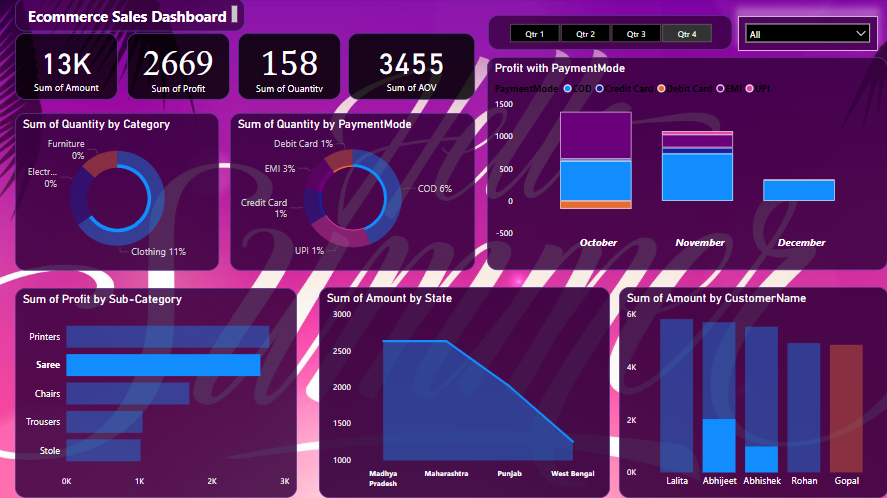

Layout of this report page (visuals, bound fields, positions):
{"tool":"powerbi","page":{"name":"Page 1","canvas":[1280,720],"ordinal":0},"visuals":[{"type":"textbox","box":[22.2,0,331.1,47.8],"z":0},{"type":"columnChart","title":"Profit with PaymentMode","fields":{"Y":["Details.Profit"],"Category":["Orders.Order Date.Variation.Date Hierarchy.Month"],"Series":["Details.PaymentMode"]},"box":[702.2,84.4,577.8,307.8],"z":1000},{"type":"barChart","fields":{"Category":["Details.Sub-Category"],"Y":["Details.Profit"]},"box":[22,418,406,302],"z":2000},{"type":"donutChart","fields":{"Category":["Details.Category"],"Y":["Details.Quantity"]},"box":[22.2,165.6,294.4,226.7],"z":3000},{"type":"donutChart","fields":{"Y":["Details.Quantity"],"Category":["Details.PaymentMode"]},"box":[331.1,165.6,353.3,226.7],"z":4000},{"type":"card","fields":{"Values":["Details.Amount"]},"box":[22.2,51.1,147.8,95.6],"z":5000},{"type":"card","fields":{"Values":["Details.Profit"]},"box":[183.3,51.1,147.8,95.6],"z":6000},{"type":"card","fields":{"Values":["Details.Quantity"]},"box":[343.3,51.1,147.8,95.6],"z":7000},{"type":"card","fields":{"Values":["Details.Column"]},"box":[501.1,51.1,183.3,95.6],"z":8000},{"type":"stackedAreaChart","fields":{"Category":["Orders.State"],"Y":["Details.Amount"]},"box":[460,416,418,304],"z":9000},{"type":"columnChart","fields":{"Category":["Orders.CustomerName"],"Y":["Details.Amount"]},"box":[892,416,388,304],"z":10000},{"type":"slicer","fields":{"Values":["Orders.Order Date.Variation.Date Hierarchy.Quarter"]},"box":[702.2,24.4,352.2,50],"z":11000},{"type":"slicer","fields":{"Values":["Orders.State"]},"box":[1063.3,25.6,201.1,50],"z":12000}]}

Visuals, with their boxes in screenshot pixels (x1, y1, x2, y2), scaled from the page's 1280x720 canvas onto the 887x498 screenshot:
textbox: <bbox>15, 0, 245, 33</bbox>
"Profit with PaymentMode" columnChart: <bbox>487, 58, 886, 271</bbox>
barChart - Details.Sub-Category x Details.Profit: <bbox>15, 289, 297, 497</bbox>
donutChart - Details.Category x Details.Quantity: <bbox>15, 115, 219, 271</bbox>
donutChart - Details.Quantity x Details.PaymentMode: <bbox>229, 115, 474, 271</bbox>
card - Details.Amount: <bbox>15, 35, 118, 101</bbox>
card - Details.Profit: <bbox>127, 35, 229, 101</bbox>
card - Details.Quantity: <bbox>238, 35, 340, 101</bbox>
card - Details.Column: <bbox>347, 35, 474, 101</bbox>
stackedAreaChart - Orders.State x Details.Amount: <bbox>319, 288, 608, 497</bbox>
columnChart - Orders.CustomerName x Details.Amount: <bbox>618, 288, 886, 497</bbox>
slicer - Orders.Order Date.Variation.Date Hierarchy.Quarter: <bbox>487, 17, 731, 51</bbox>
slicer - Orders.State: <bbox>737, 18, 876, 52</bbox>
